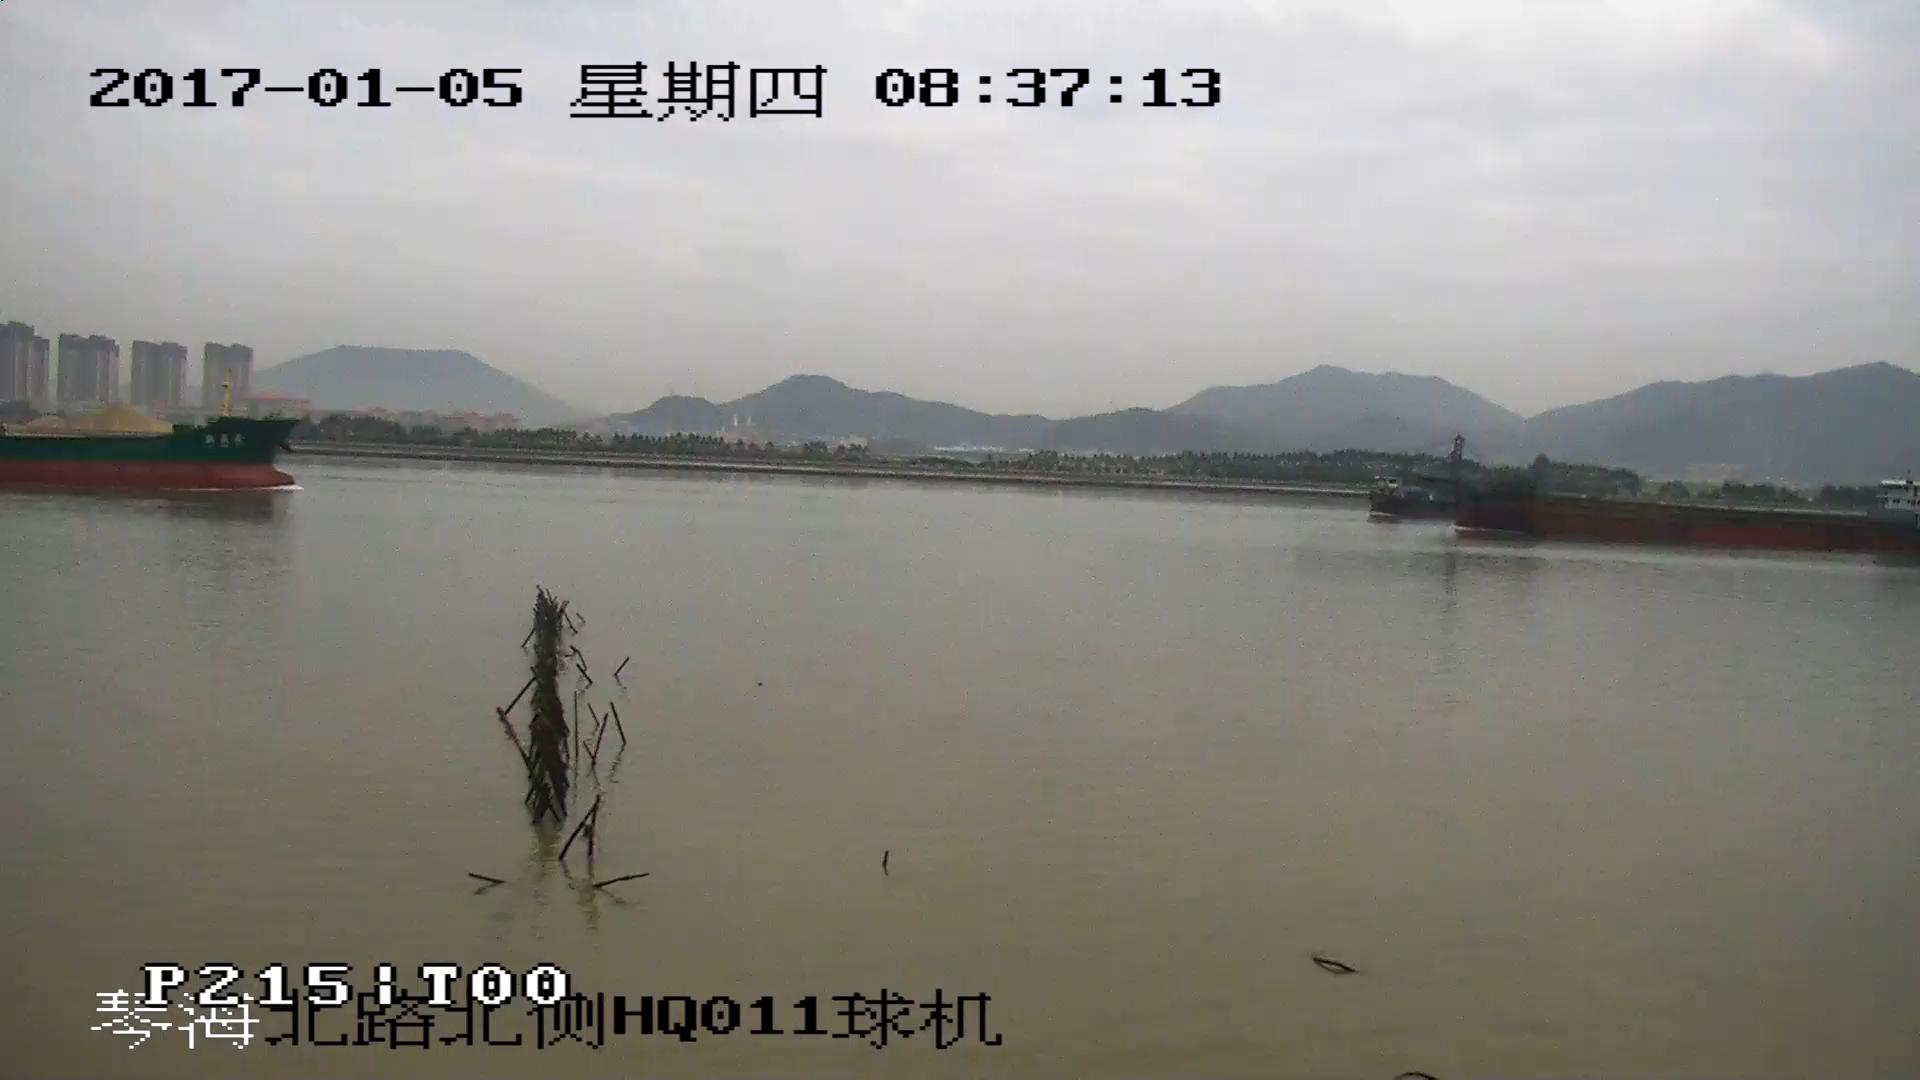bulk cargo carrier: (1374, 447, 1920, 550)
general cargo ship: (1, 372, 304, 494)
